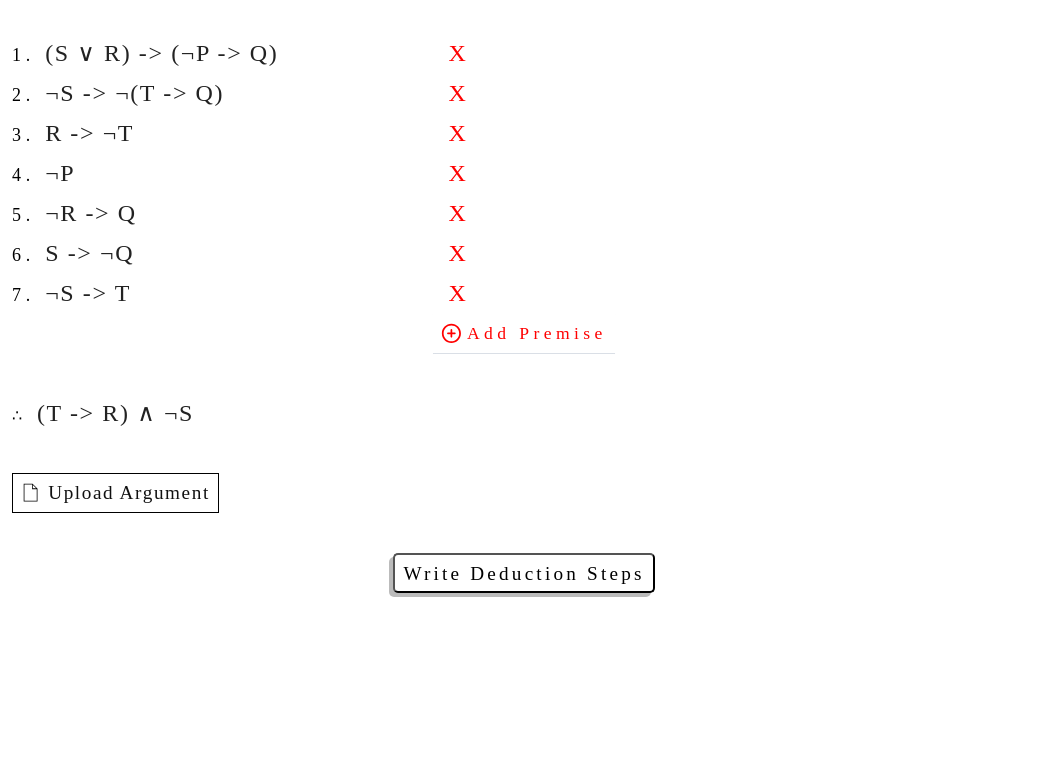
Test: Propositional Logic Indirect Proof Body › checks for deduction steps on click
What coordinates should you click on to do the following:
click the button with aria-label "submit argument"
I would click on:
 (524, 573)
Its box is [393,553,655,593].
(page scrolled)
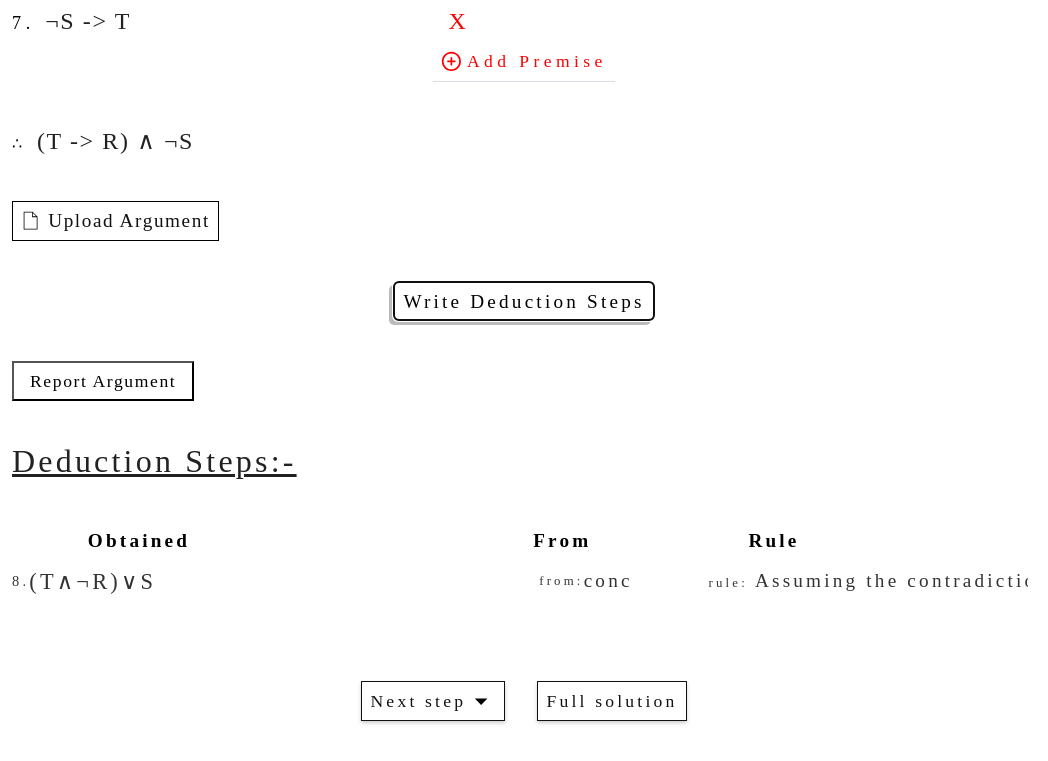
Check: the button with aria-label "show entire solution" is shown
What coordinates should you click on to do the following:
click the button with aria-label "show entire solution"
I would click on:
 (612, 701)
Its box is [538,681,687,721].
(page scrolled)
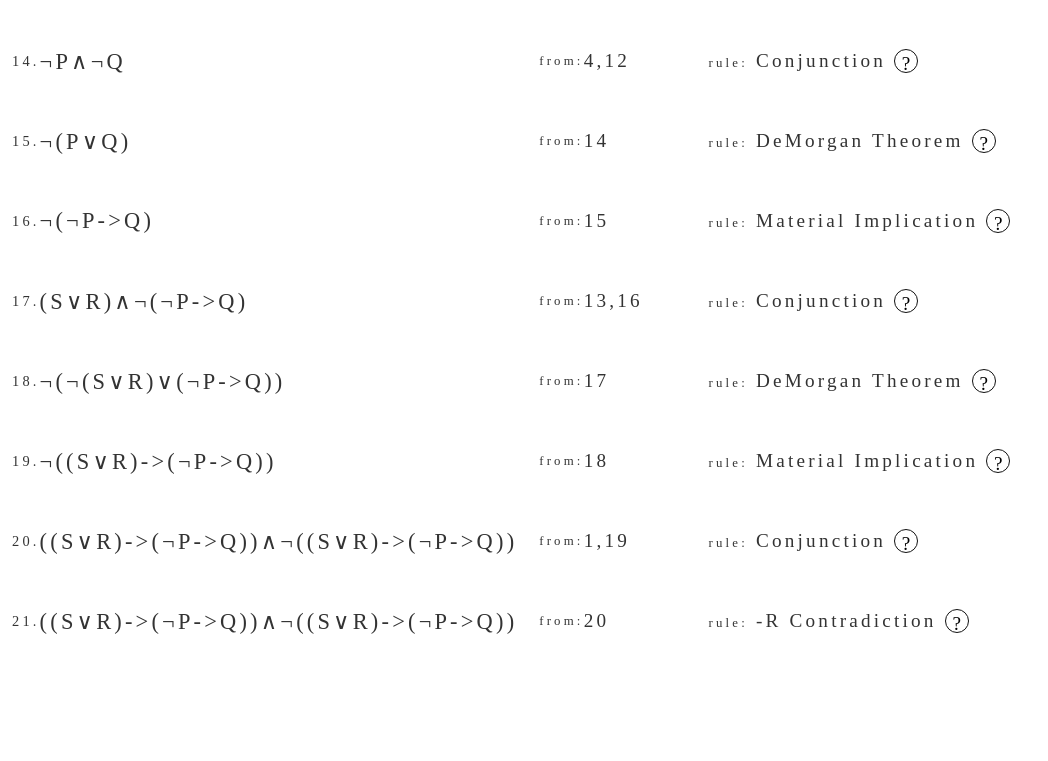
Check: the text "-R Contradiction" is shown, box [756,610,937,631]
Check: the row "14. ¬P∧¬Q from: 4,12 rule: Conjunction ?" is shown, box [12,41,1028,81]
Check: the row "15. ¬(P∨Q) from: 14 rule: DeMorgan Theorem ?" is shown, box [12,121,1028,161]
